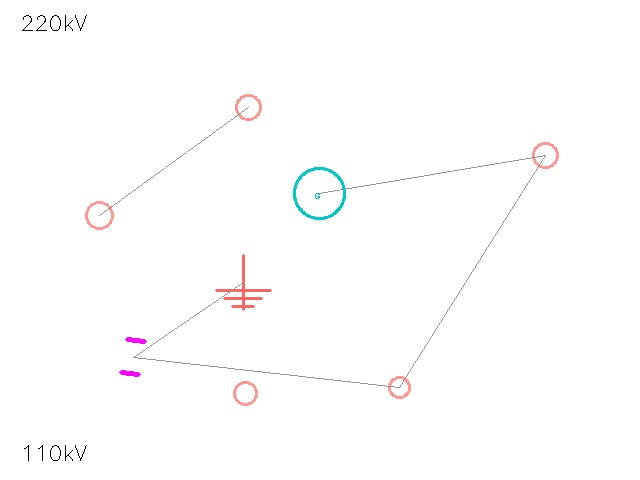capacitor: (105, 329, 161, 385)
disconnect_switch: (73, 189, 125, 241)
feeder_terminal: (378, 366, 420, 408)
fuse: (223, 82, 273, 132)
generator: (294, 168, 344, 218)
ground: (216, 255, 270, 309)
reactor: (223, 371, 267, 415)
voltage_transformer: (520, 130, 570, 180)
